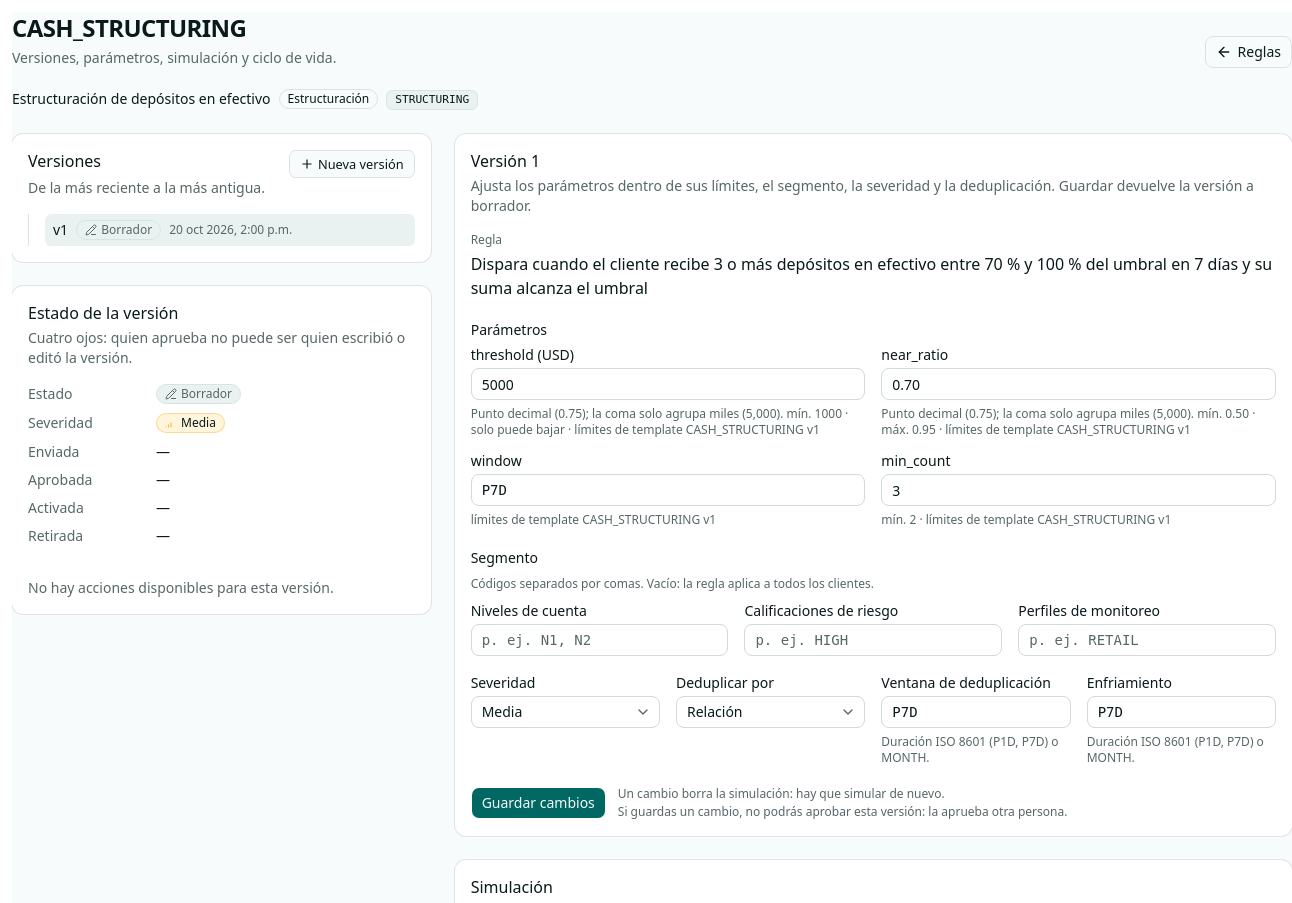
RulePage › an out-of-bounds value maps to its field
The width and height of the screenshot is (1292, 903).
Replace the text in the field labelled "threshold (USD)" with "6,000" at (668, 384), box left=471, top=368, right=865, bottom=400
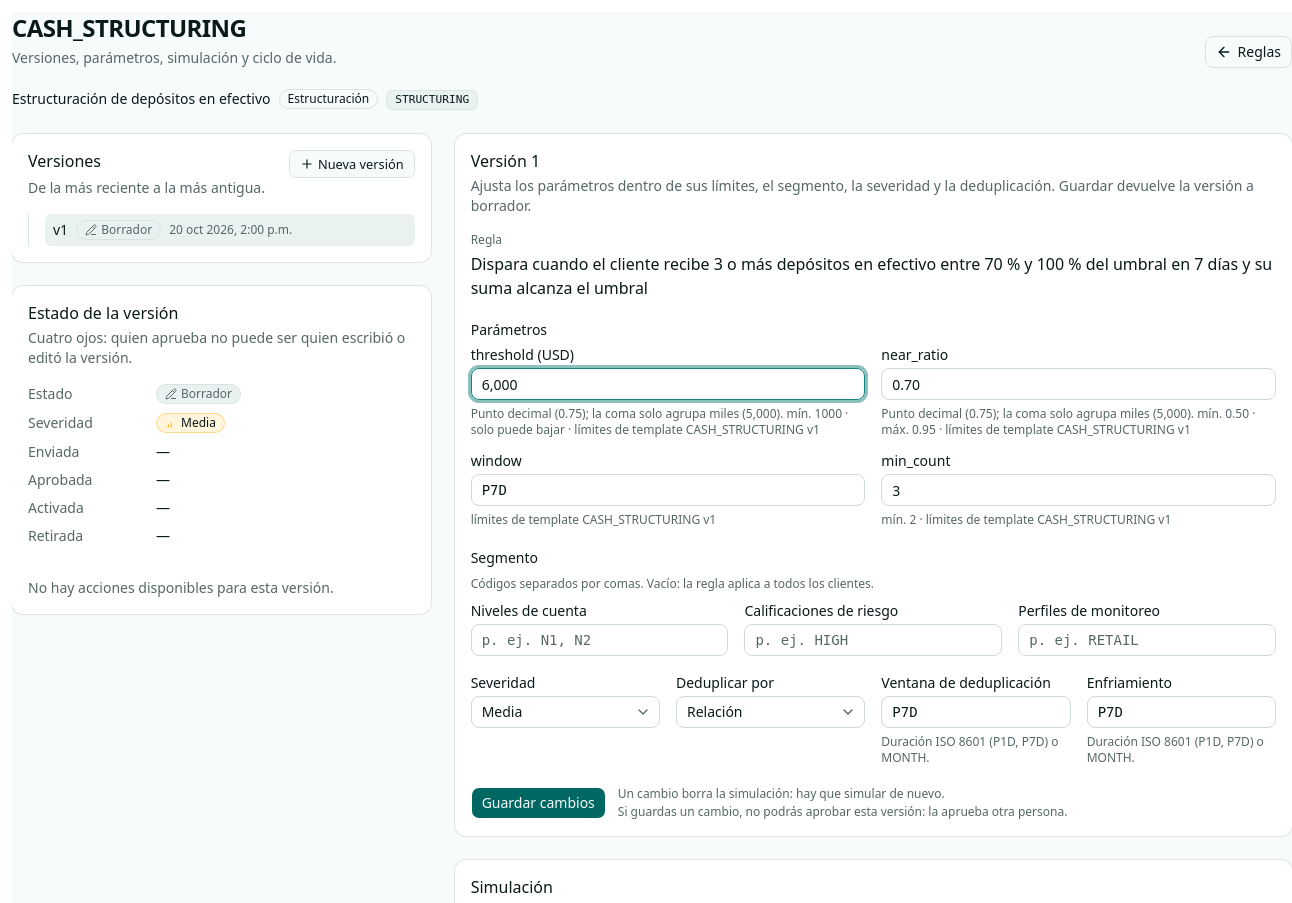
Click the button "Guardar cambios".
click(538, 803)  # box left=471, top=787, right=606, bottom=819
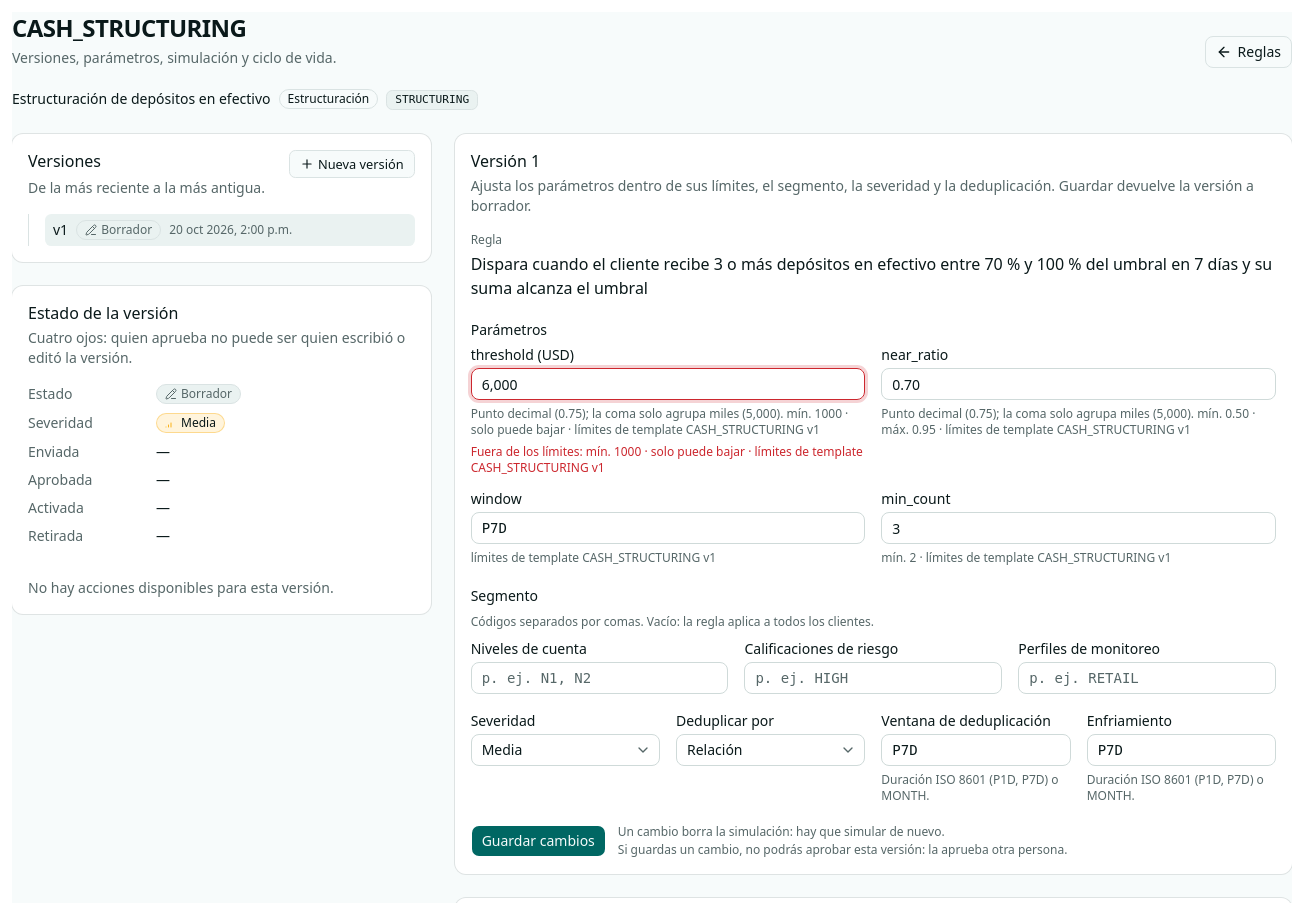
Now the text "Fuera de los límites: mín. 1000 · solo puede bajar · límites de template CASH_STRUCTURING v1" is shown, box left=471, top=443, right=863, bottom=476
